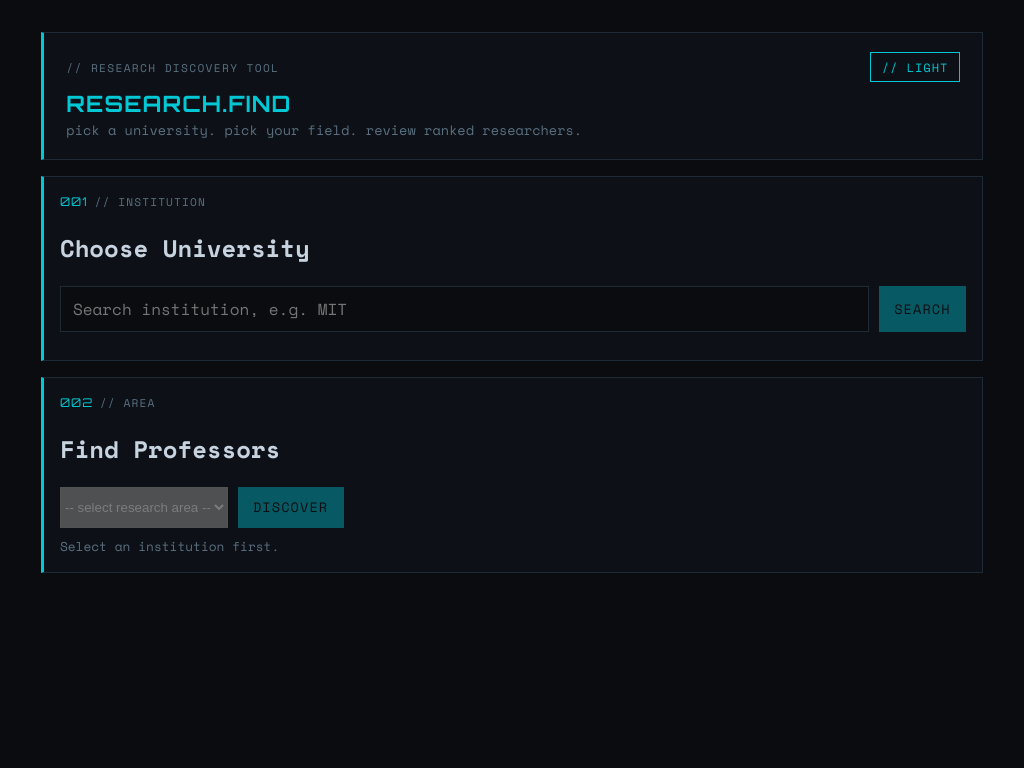
Test: App › opens modal with empty-state message when discovery has no results
The image size is (1024, 768).
Type "mit" into the field named "Institution query".
click(465, 309); type("mit")  # box [60,286,869,332]
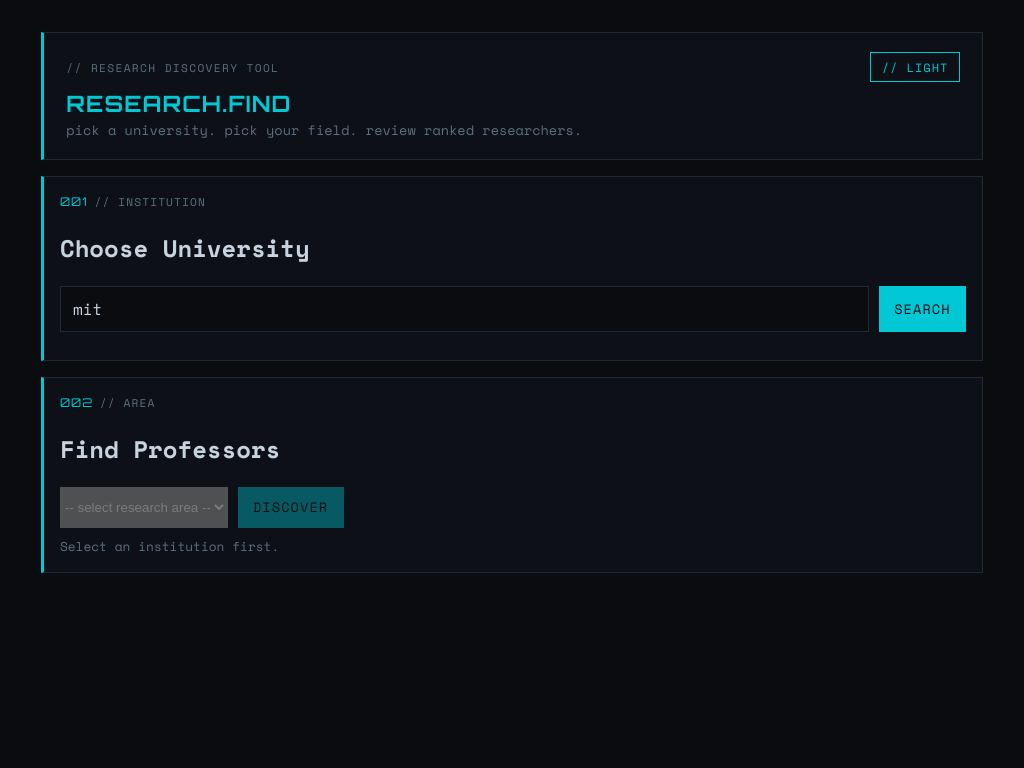
Click the button "Search".
click(922, 309)  # box [879,286,966,332]
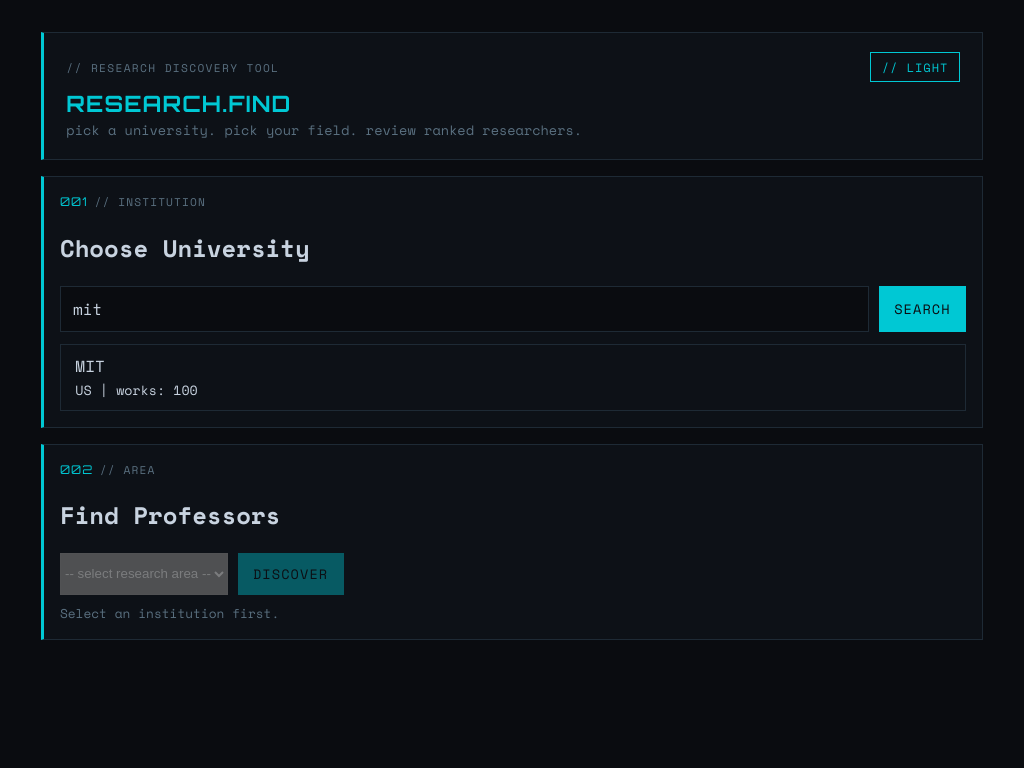
Click the button "MIT US | works: 100".
click(132, 390)  # box [60,344,966,411]
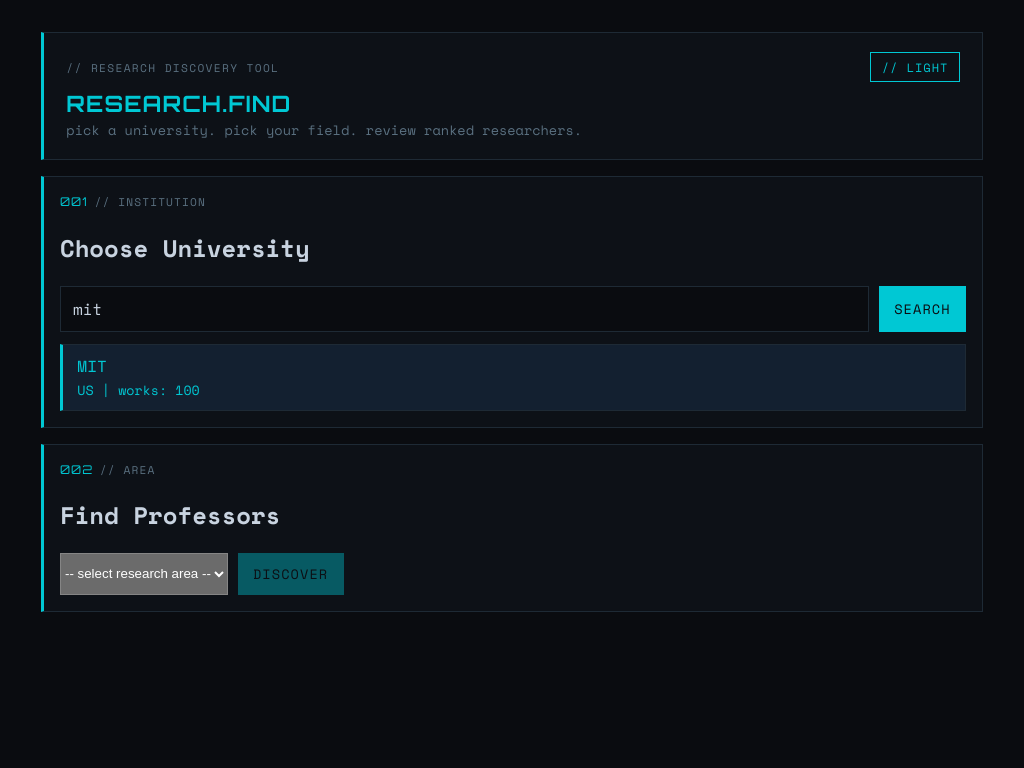
Select "Machine Learning" in the dropdown named "Research area" at (144, 574), box [60,553,228,595]
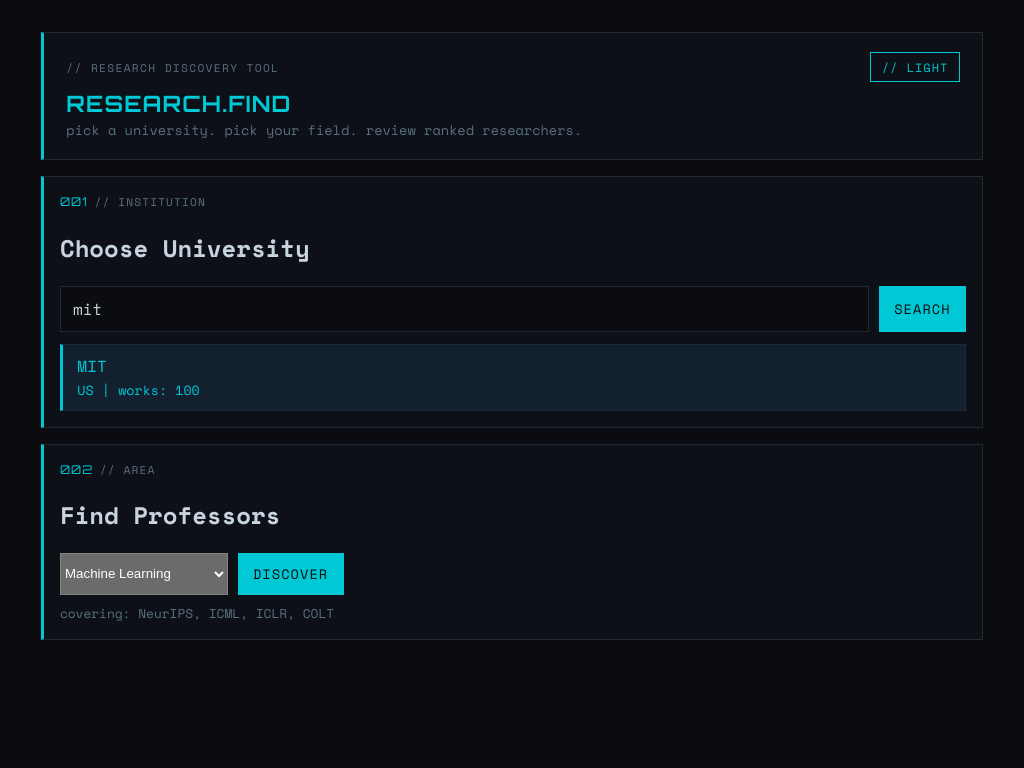
Click the button "Discover".
click(290, 574)  # box [238,553,344,595]
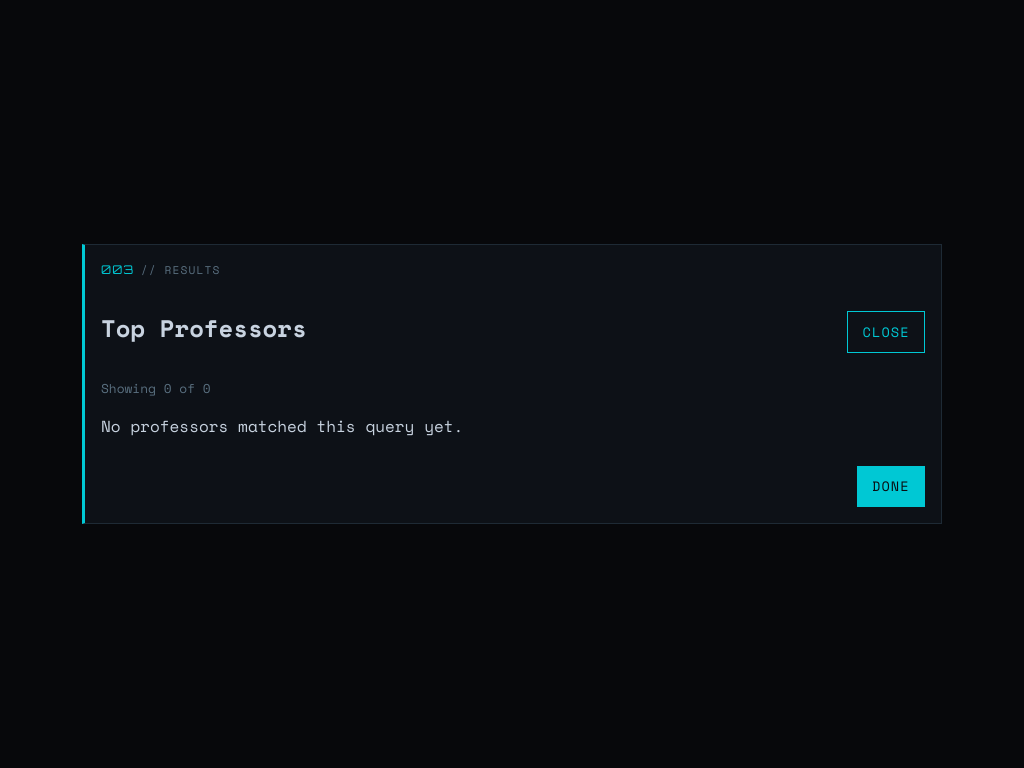
Now the dialog named "Professor results" is shown, box [82,244,942,524]
Now the text "No professors matched this query yet." is shown, box [101,414,463,438]
